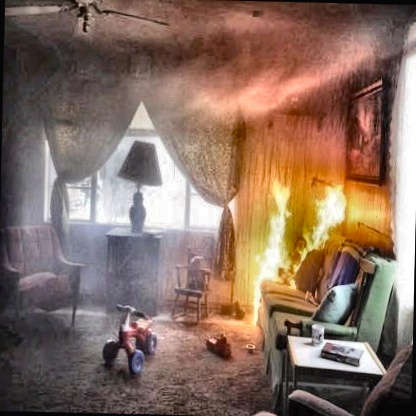fire: (228, 139, 358, 310)
